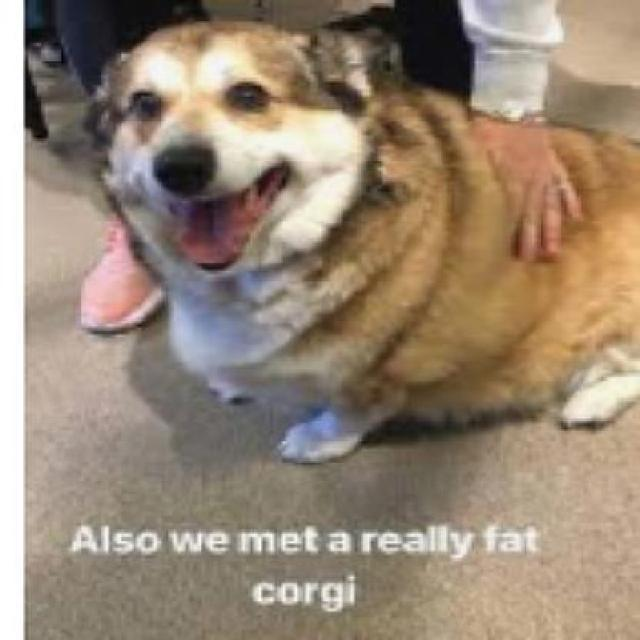Dog: (87, 12, 638, 470)
